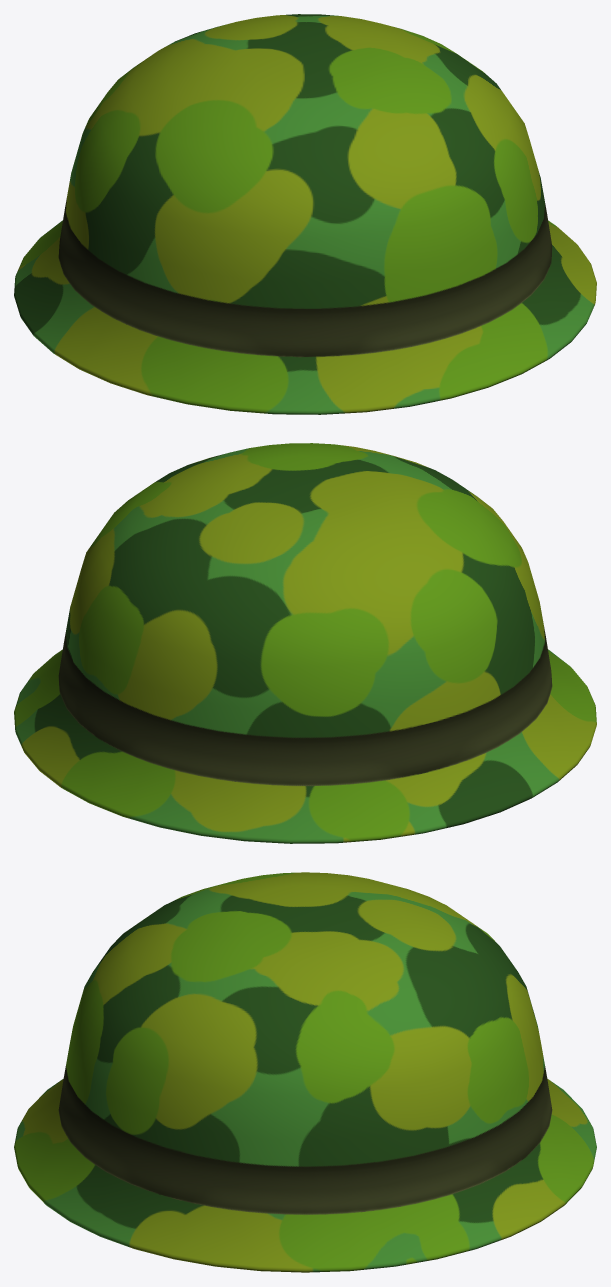
The model's file is Military Hat.fbx.
3 views of the same model, one above another, from view 1: azimuth 30°, elevation 25°; view 2: azimuth 150°, elevation 25°; view 3: azimuth 270°, elevation 25° (orthographic).
Visible parts, largest first — view 1: Military hat; view 2: Military hat; view 3: Military hat.
Boxes of the visible parts, box(x1,y1,x2,y2) form: Military hat: box(14, 14, 596, 414); Military hat: box(14, 443, 596, 843); Military hat: box(14, 872, 596, 1272).
Bounding box in the file's own units: 55.96 × 25.3 × 55.99.
